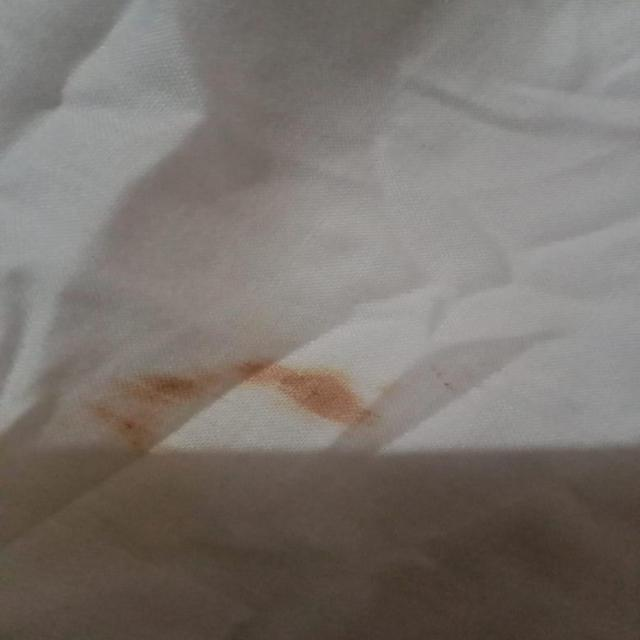stain: (58, 350, 388, 470)
